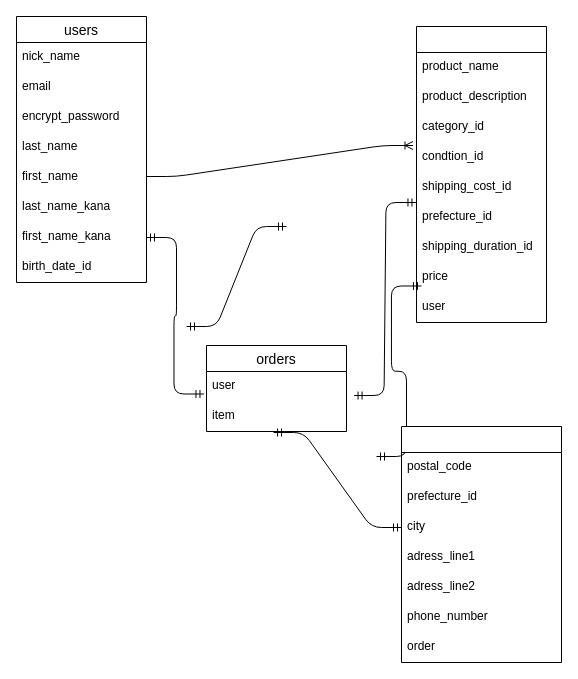
Some shapes in this 578 by 679 pixel diagram are drawn without their labels. Each missing label, with the box of its shape:
adresses: (400, 426, 562, 662)
items: (416, 26, 546, 322)
